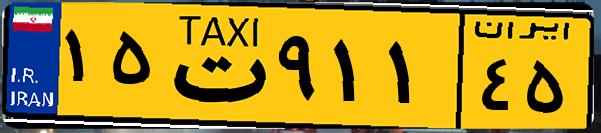1: (385, 28, 445, 110), (330, 28, 385, 110), (57, 26, 110, 100)
4: (475, 38, 525, 113)
5: (525, 38, 570, 115), (110, 28, 158, 98)
9: (270, 28, 330, 110)
ت: (158, 12, 270, 120)
